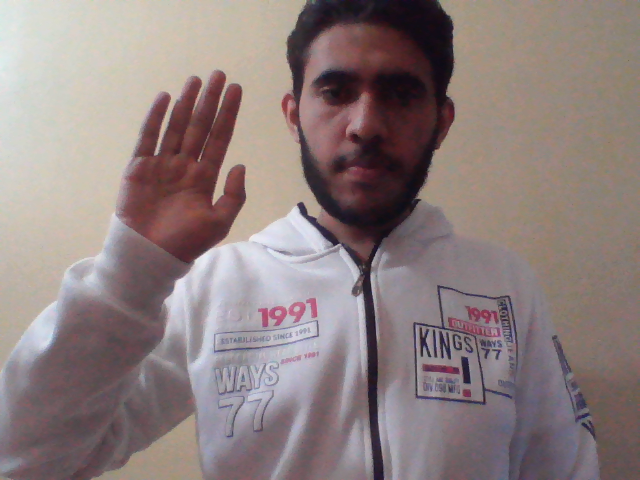hello: (106, 63, 252, 277)
